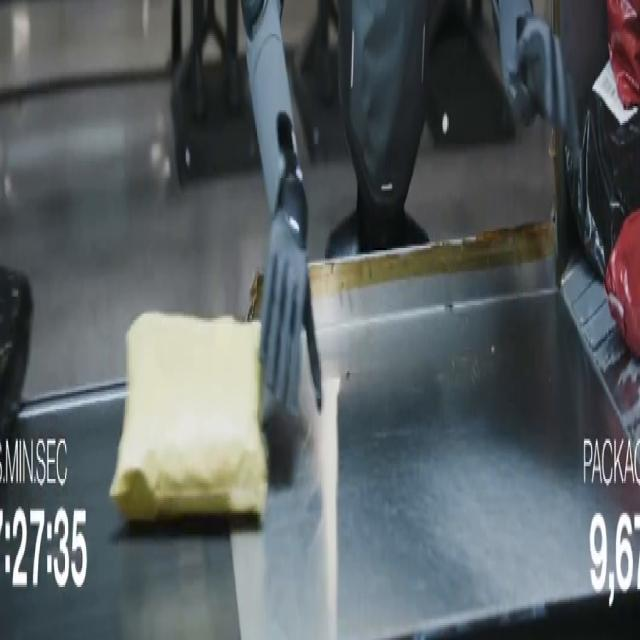package: (110, 314, 267, 521), (566, 66, 639, 279), (0, 268, 32, 436), (605, 210, 639, 356), (608, 0, 639, 108)
